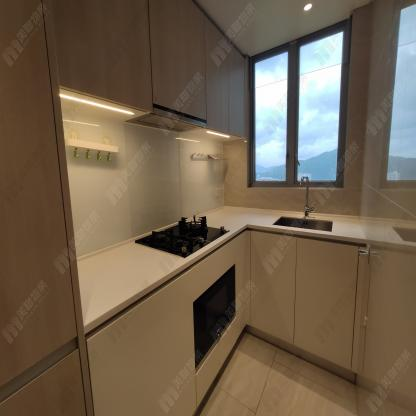Cupboard: (53, 0, 248, 138), (247, 231, 362, 371), (204, 16, 245, 139)
Exhaust Hood: (124, 103, 207, 133), (123, 103, 208, 131)
Faucet: (299, 174, 316, 218)
Oven: (191, 265, 237, 373), (193, 265, 236, 378)
Sink: (256, 211, 340, 236), (276, 217, 331, 232)
Stove: (123, 211, 248, 271), (135, 214, 231, 259)
